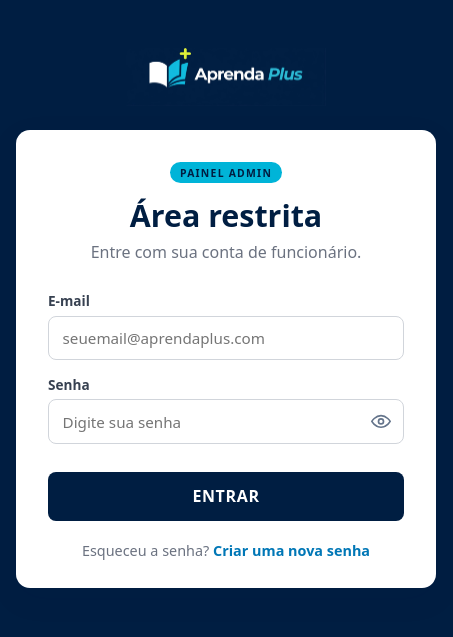
Scenario: outros erros mostram mensagem genérica
Type "admin@teste.com" into the field labelled "E-mail".
click(226, 338); type("admin@teste.com")  # box top-left (48, 316), bottom-right (404, 360)
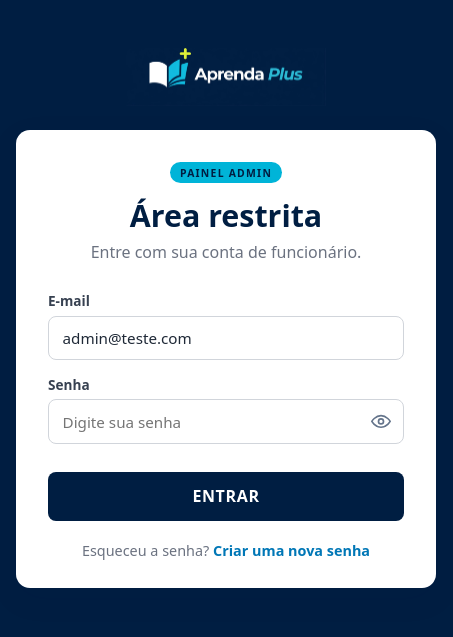
Type "admin123" into the password field labelled "Senha".
click(226, 422); type("admin123")  # box top-left (48, 399), bottom-right (404, 444)
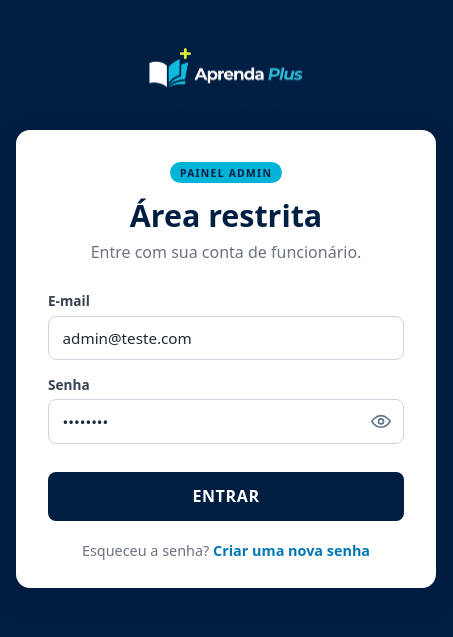
Click the button "ENTRAR".
click(226, 496)  # box top-left (48, 472), bottom-right (404, 521)
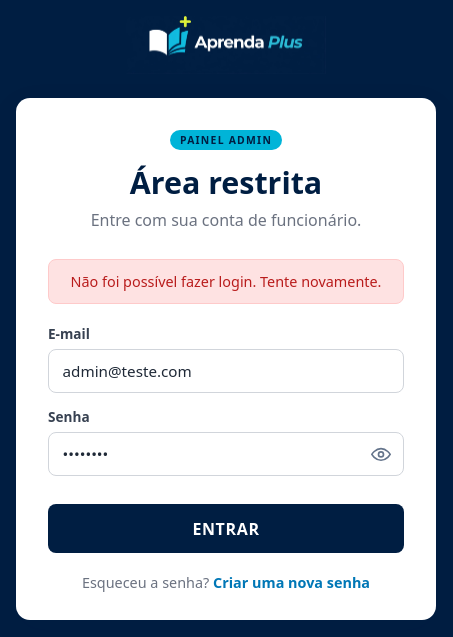
Result: the text "Não foi possível fazer login. Tente novamente." is shown at top-left (48, 259), bottom-right (404, 304)
